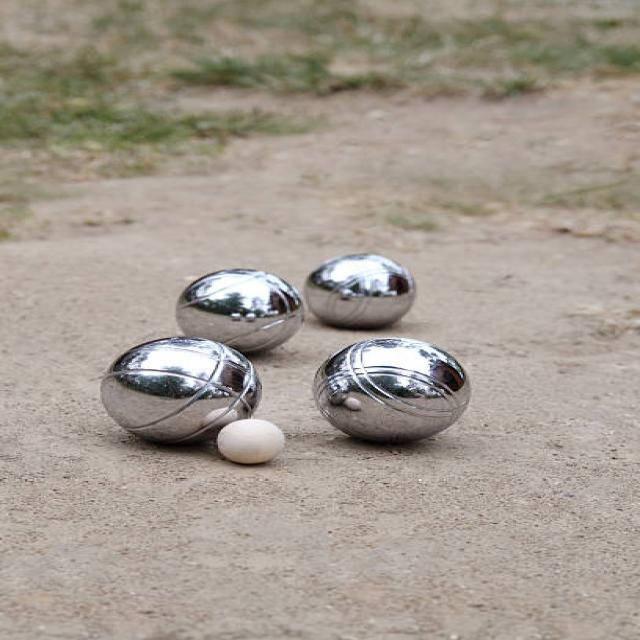hatball: (217, 419, 298, 471)
petanque: (303, 335, 475, 450), (111, 337, 269, 446), (170, 265, 308, 356), (299, 246, 426, 338)
